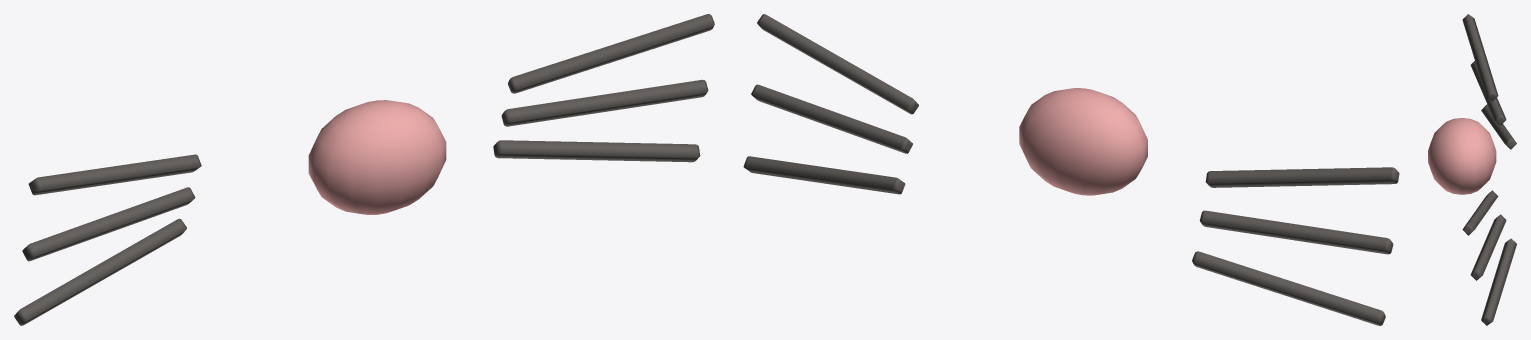
The model's file is cat_nose.glb.
The picture shows the model from 3 angles, left to right: view 1: azimuth 30°, elevation 25°; view 2: azimuth 150°, elevation 25°; view 3: azimuth 270°, elevation 25°; orthographic projection. The views are drawn at different scales.
Parts seen in each view (by area): view 1: cat_nose_Head; view 2: cat_nose_Head; view 3: cat_nose_Head.
Part boxes in pixels (box(x1,y1,x2,y2)): cat_nose_Head: box(14, 14, 714, 325); cat_nose_Head: box(743, 14, 1399, 325); cat_nose_Head: box(1428, 14, 1516, 325).
Size of the model in its own units: 0.4076 by 0.0907 by 0.0719.
